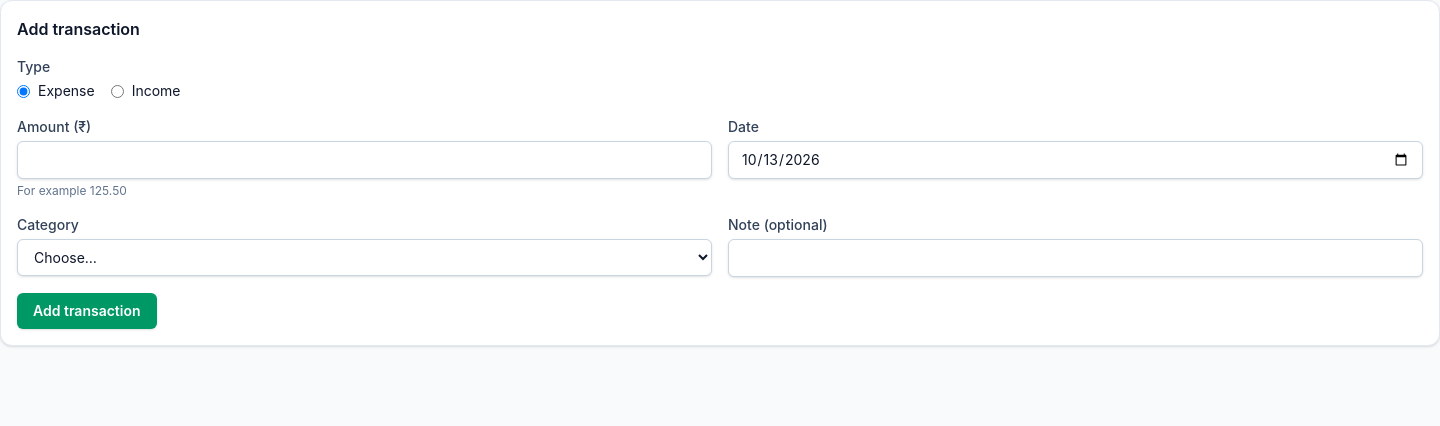
Test: TransactionForm › shows the server validation message when the API rejects the request
The width and height of the screenshot is (1440, 426).
Type "10" into the field labelled "Amount (₹)".
click(364, 160); type("10")  # box 17,141 -> 712,179
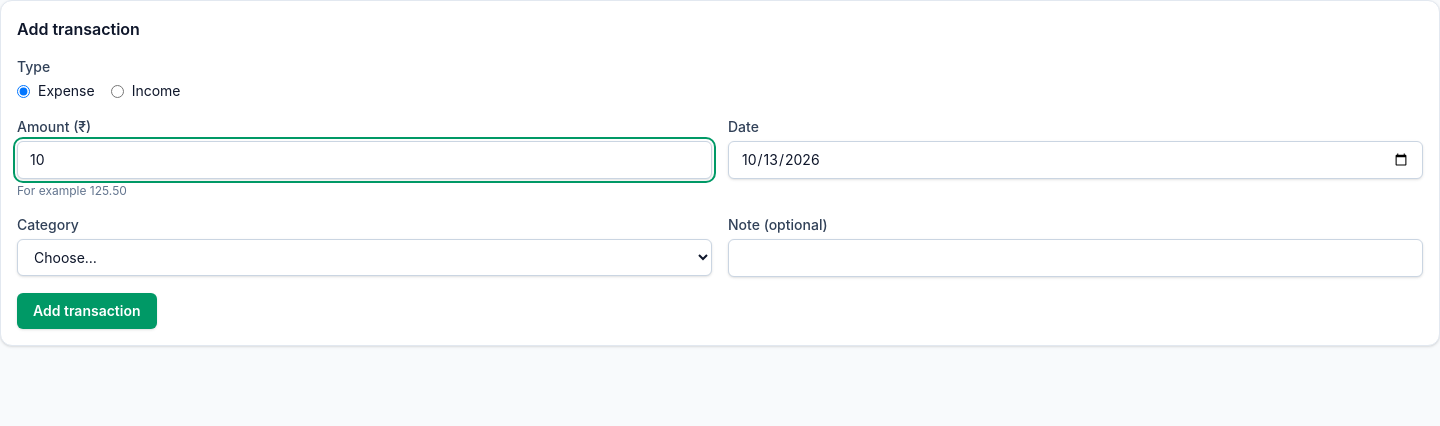
Select "Rent" in the dropdown labelled "Category" at (364, 258), box 17,239 -> 712,276
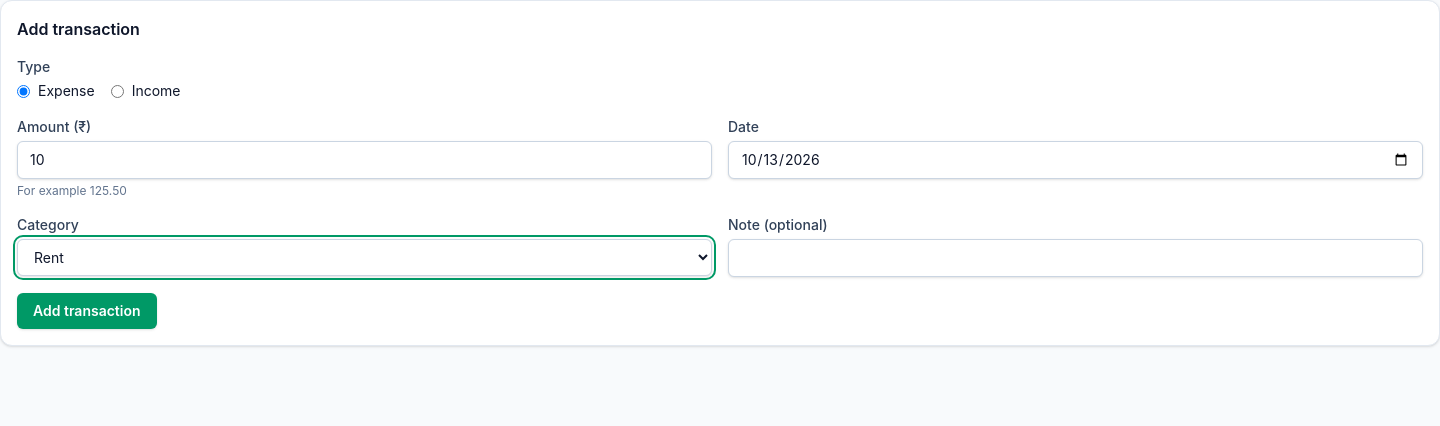
Click the button "Add transaction".
click(87, 311)  # box 17,293 -> 156,329
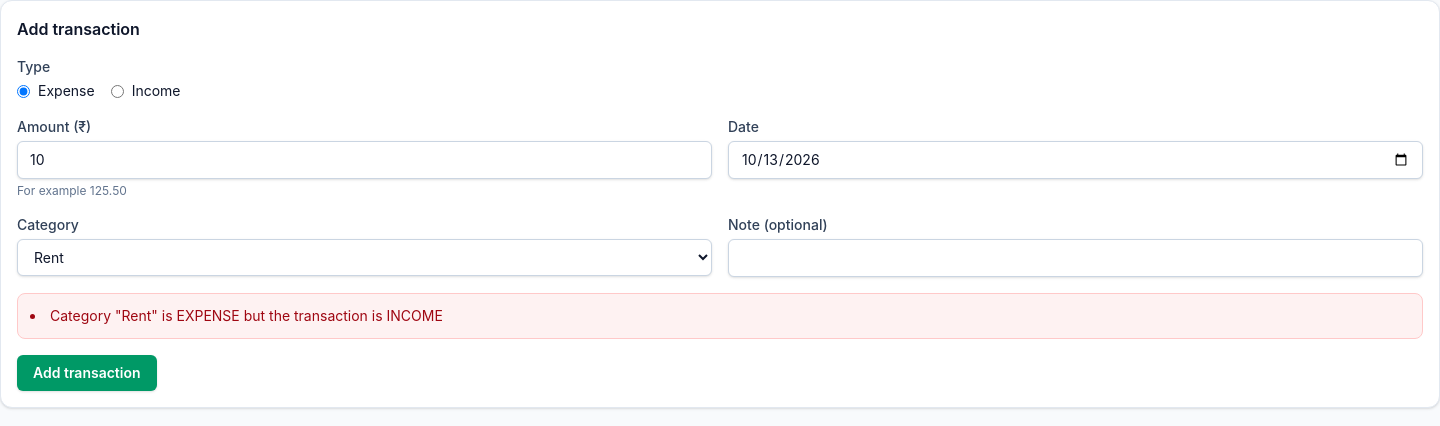
Result: the message reads "Category \"Rent\" is EXPENSE but the transaction is INCOME" at 50,307 -> 443,324
